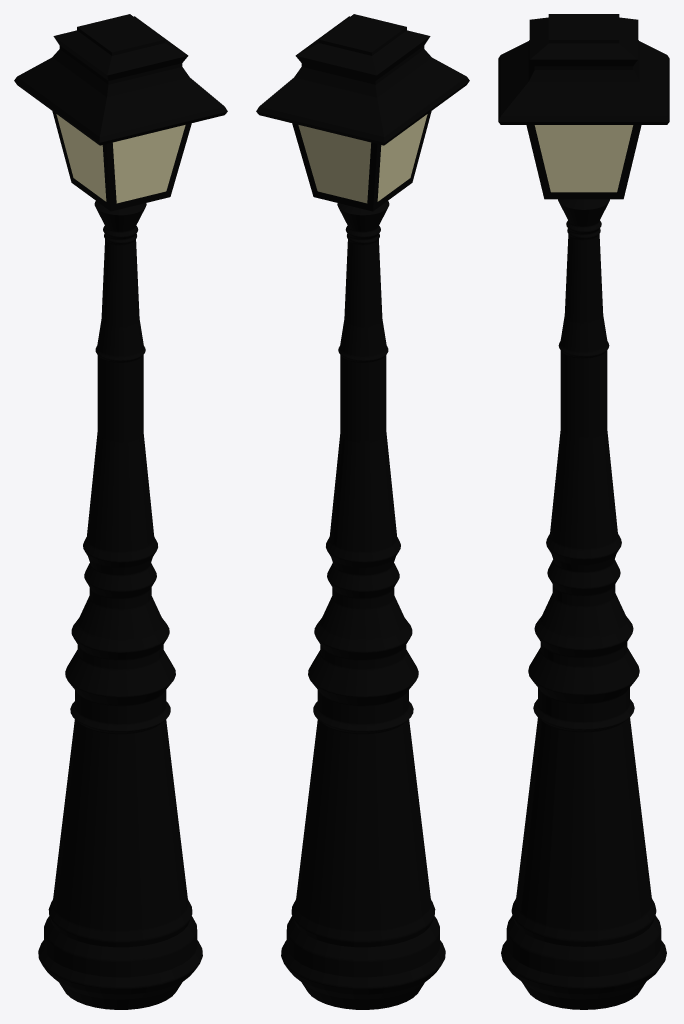
File: streetLampBlackK.fbx
The picture shows the model from 3 angles, left to right: view 1: azimuth 30°, elevation 25°; view 2: azimuth 150°, elevation 25°; view 3: azimuth 270°, elevation 25°; orthographic projection.
Parts seen in each view (by area): view 1: Cylinder.001, Cube; view 2: Cylinder.001, Cube; view 3: Cylinder.001, Cube.
Part boxes in pixels (<box>): Cylinder.001: <box>38,201,202,1009</box>; Cube: <box>14,14,227,211</box>; Cylinder.001: <box>281,201,445,1009</box>; Cube: <box>256,14,469,211</box>; Cylinder.001: <box>501,199,666,1009</box>; Cube: <box>498,14,669,199</box>.
Bounding box in the file's own units: 258 × 1641 × 266.
